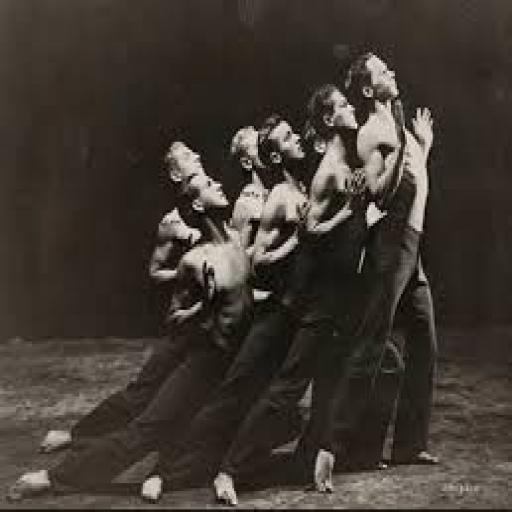dancing: (124, 54, 473, 459)
